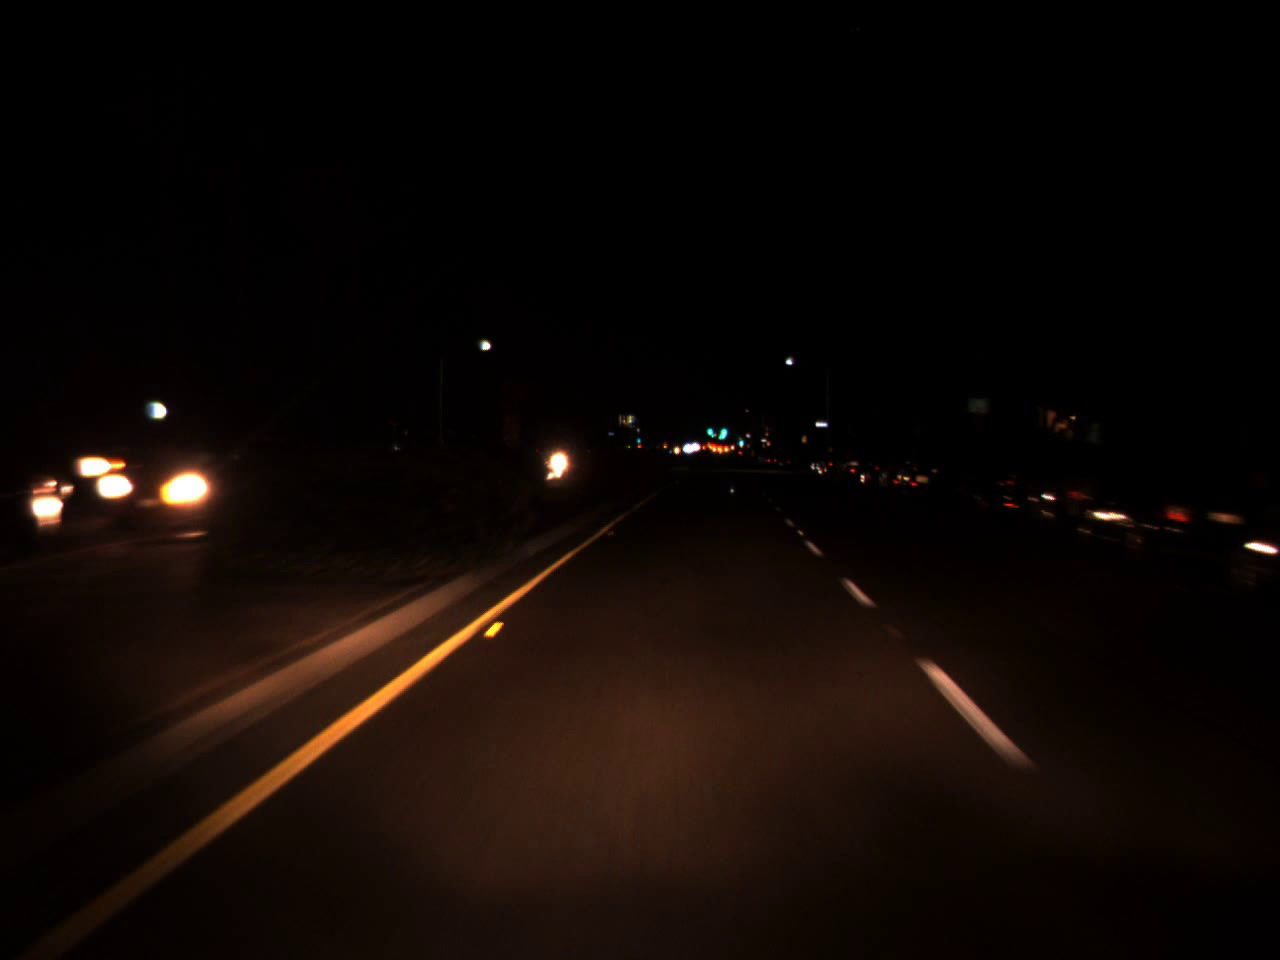go: (714, 414, 730, 441), (705, 418, 715, 439), (737, 433, 744, 448)
